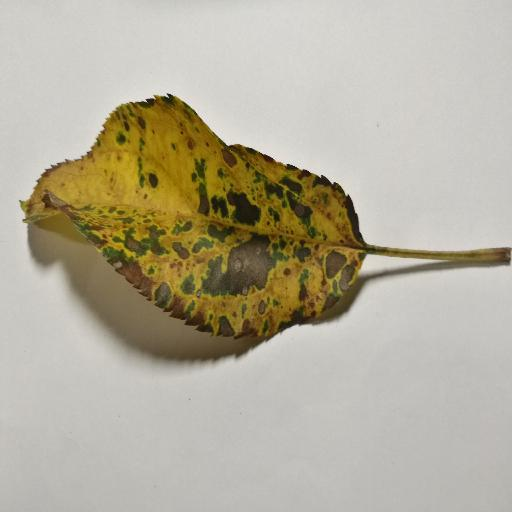Brown_Spot: (85, 147, 383, 320)
